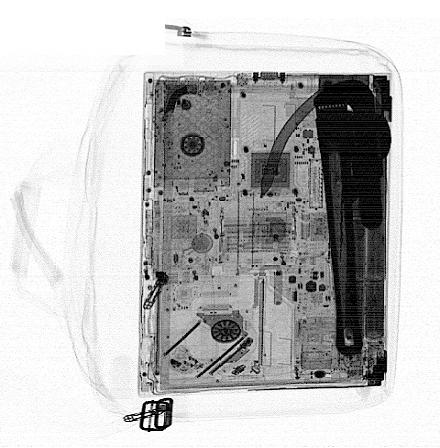Wrench: (310, 77, 393, 359)
